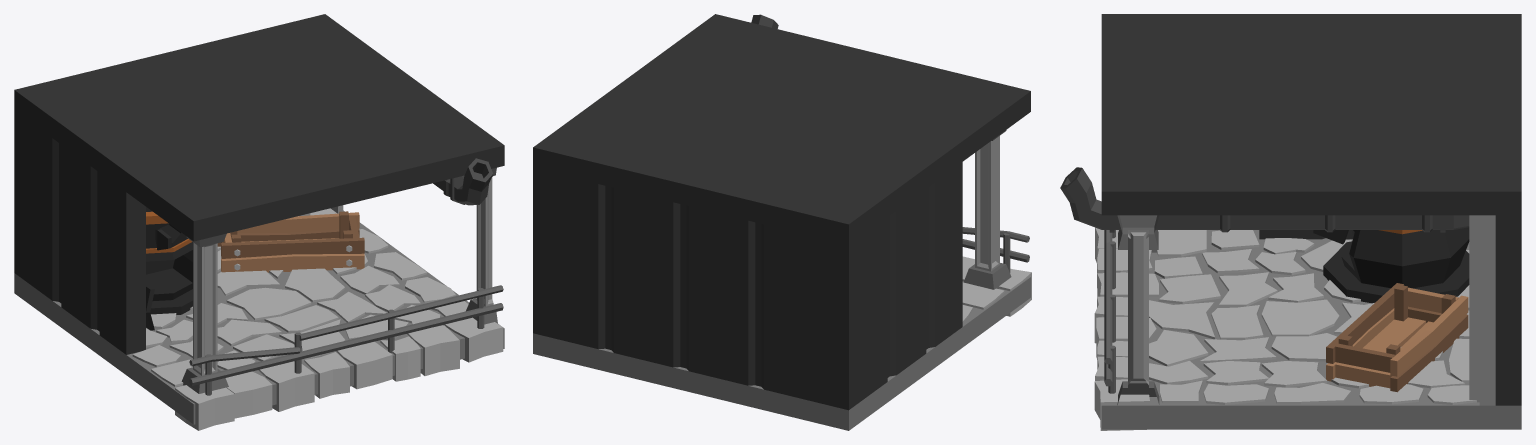
The model's file is CoalGenerator_Level_01_StraightLeft.fbx.
3 views of the same model, side by side, from view 1: azimuth 30°, elevation 25°; view 2: azimuth 150°, elevation 25°; view 3: azimuth 270°, elevation 25° (orthographic). The views are drawn at different scales.
Parts seen in each view (by area): view 1: CoalGenerator_Level_01_StraightLeft; view 2: CoalGenerator_Level_01_StraightLeft; view 3: CoalGenerator_Level_01_StraightLeft.
Part boxes in pixels (box(x1,y1,x2,y2)): CoalGenerator_Level_01_StraightLeft: box(14, 14, 504, 430); CoalGenerator_Level_01_StraightLeft: box(533, 14, 1031, 430); CoalGenerator_Level_01_StraightLeft: box(1060, 14, 1521, 430).
Size of the model in its own units: 8 by 5.21 by 8.79.
